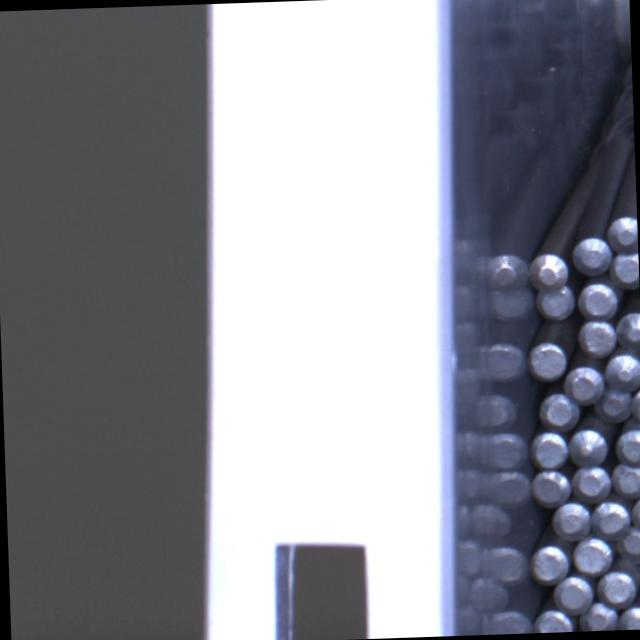tool: (528, 541, 568, 583), (570, 534, 612, 574), (572, 234, 612, 275), (526, 338, 566, 378), (568, 425, 608, 465), (540, 391, 582, 429), (596, 569, 638, 607), (552, 501, 592, 540), (530, 467, 570, 506), (564, 363, 604, 402), (528, 429, 568, 468), (554, 574, 594, 612), (591, 498, 631, 536), (573, 464, 612, 502), (578, 319, 616, 357), (579, 280, 619, 316), (530, 252, 570, 288), (604, 350, 640, 389), (537, 281, 576, 317), (596, 386, 632, 423), (578, 601, 619, 631), (611, 456, 640, 498), (611, 248, 639, 288), (532, 606, 572, 632), (610, 214, 638, 250), (617, 310, 640, 349), (616, 524, 640, 561), (616, 425, 640, 461), (618, 603, 640, 629), (629, 492, 640, 531), (630, 385, 640, 423)
